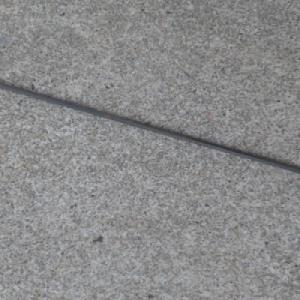LuggagePart: (0, 81, 300, 173)
